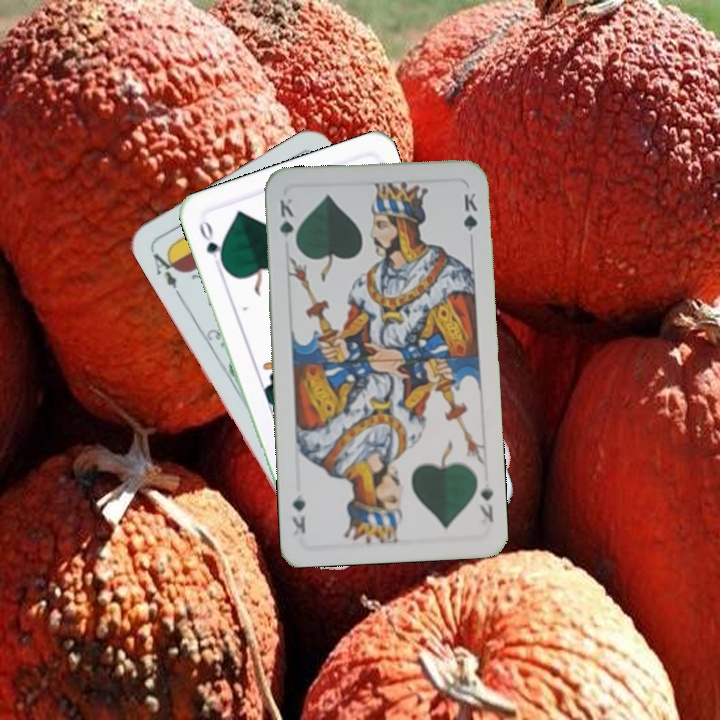EA: (147, 246, 183, 292)
GK: (275, 194, 299, 251), (475, 483, 496, 524)
GO: (195, 217, 228, 273)
